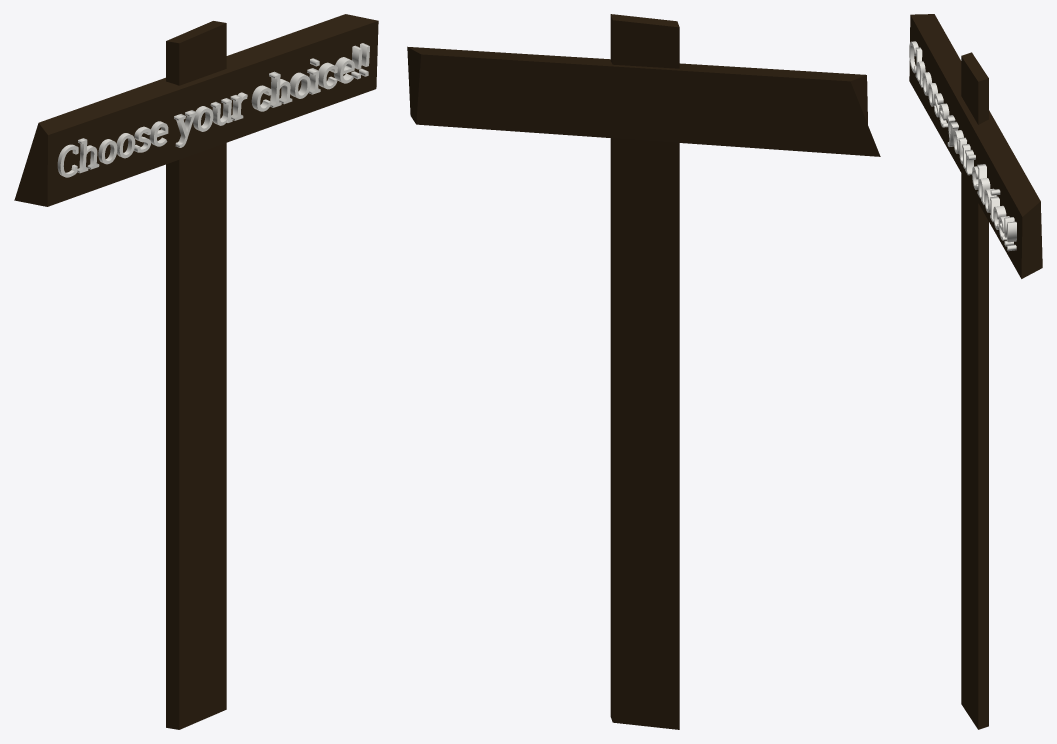
The model's file is sign.glb.
3 renders of one model, left to right at view 1: azimuth 30°, elevation 25°; view 2: azimuth 150°, elevation 25°; view 3: azimuth 270°, elevation 25°, orthographic. The views are drawn at different scales.
Visible parts, largest first — view 1: Cube_Material.005_0.004, Text; view 2: Cube_Material.005_0.004; view 3: Cube_Material.005_0.004, Text.
Boxes of the visible parts, x1,y1,x2,y2 form: Cube_Material.005_0.004: (14,14,378,729); Text: (57,43,369,177); Cube_Material.005_0.004: (407,14,880,729); Cube_Material.005_0.004: (909,14,1042,729); Text: (909,41,1016,251).
Bounding box in the file's own units: 0.6932 × 1.1 × 0.2054.
